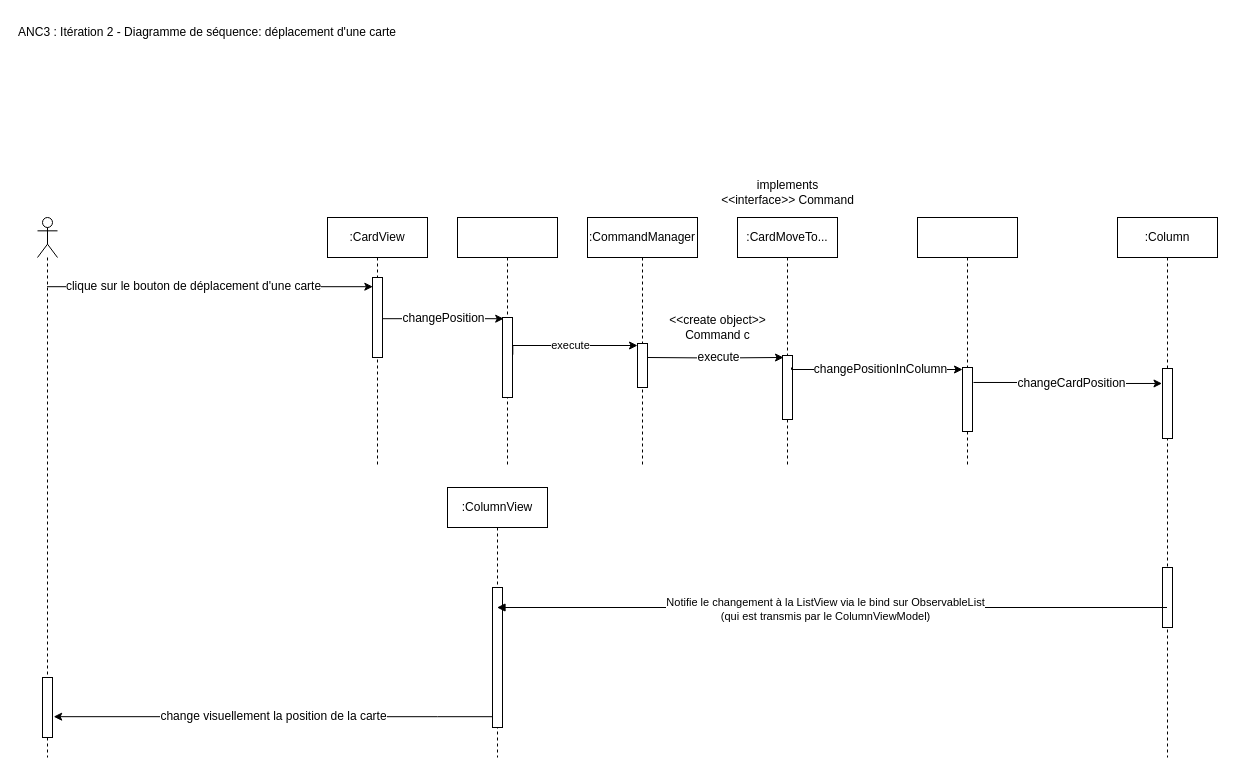
Image size: 1235x775. Some labels were removed from this diagram. The shapes that lost their labels are listed below. From the top down, each one's centre as x and y in pixels, then its label:
At [507,342]: ":CardViewModel".
At [967,342]: ":Card".
